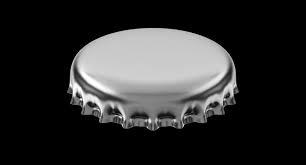Metal: (49, 24, 248, 136)
